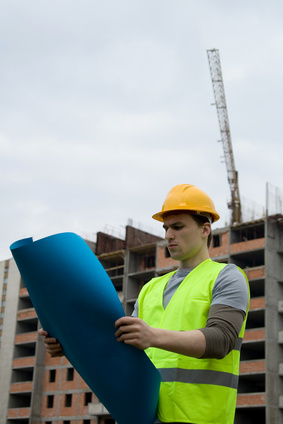hard hat: (150, 184, 220, 222)
high-vis: (133, 260, 250, 424)
